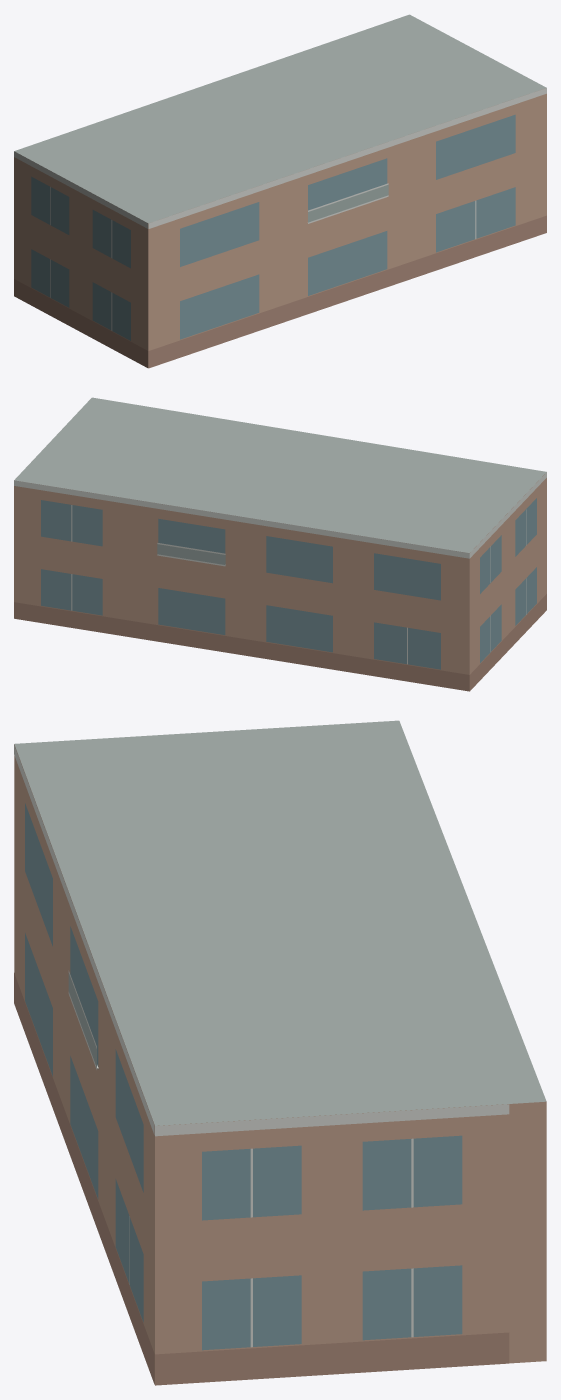
The model's file is survey-upis-32861506.glb.
The picture shows the model from 3 angles, top to bottom: view 1: azimuth 30°, elevation 25°; view 2: azimuth 150°, elevation 25°; view 3: azimuth 270°, elevation 25°; orthographic projection. The views are drawn at different scales.
Visible parts, largest first — view 1: survey-upis-32861506.tmp; view 2: survey-upis-32861506.tmp; view 3: survey-upis-32861506.tmp.
Part boxes in pixels (left/top/right/bottom): survey-upis-32861506.tmp: left=14, top=14, right=546, bottom=368; survey-upis-32861506.tmp: left=14, top=397, right=546, bottom=691; survey-upis-32861506.tmp: left=14, top=720, right=546, bottom=1385.
Bounding box in the file's own units: 20.45 × 6.1 × 11.36.
